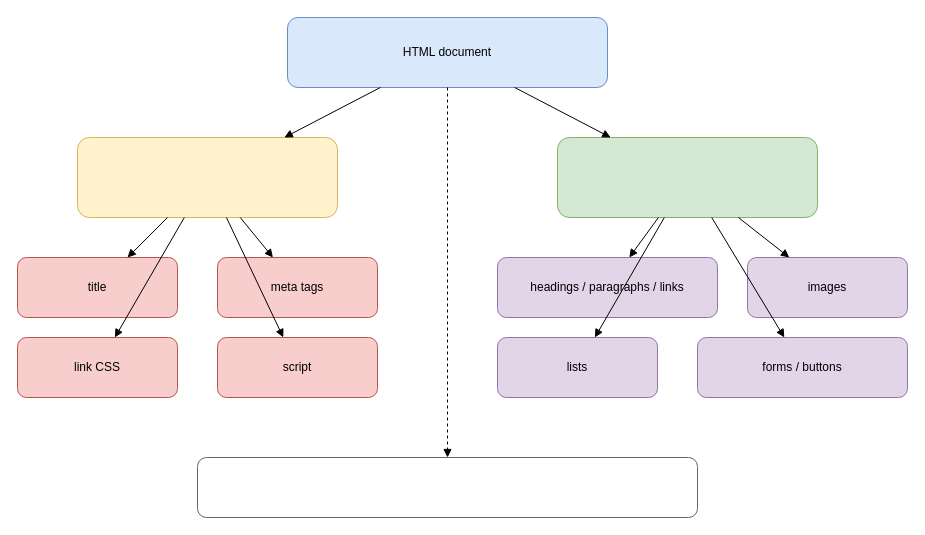
Image size: 925x535. Some labels were removed from this diagram. The box of each missing label's shape, as (x1, y1, x2, y2) in pixels:
body (visible content): (556, 136, 818, 218)
Browser builds a DOM tree from HTML: (196, 456, 698, 518)
head (metadata): (76, 136, 338, 218)
